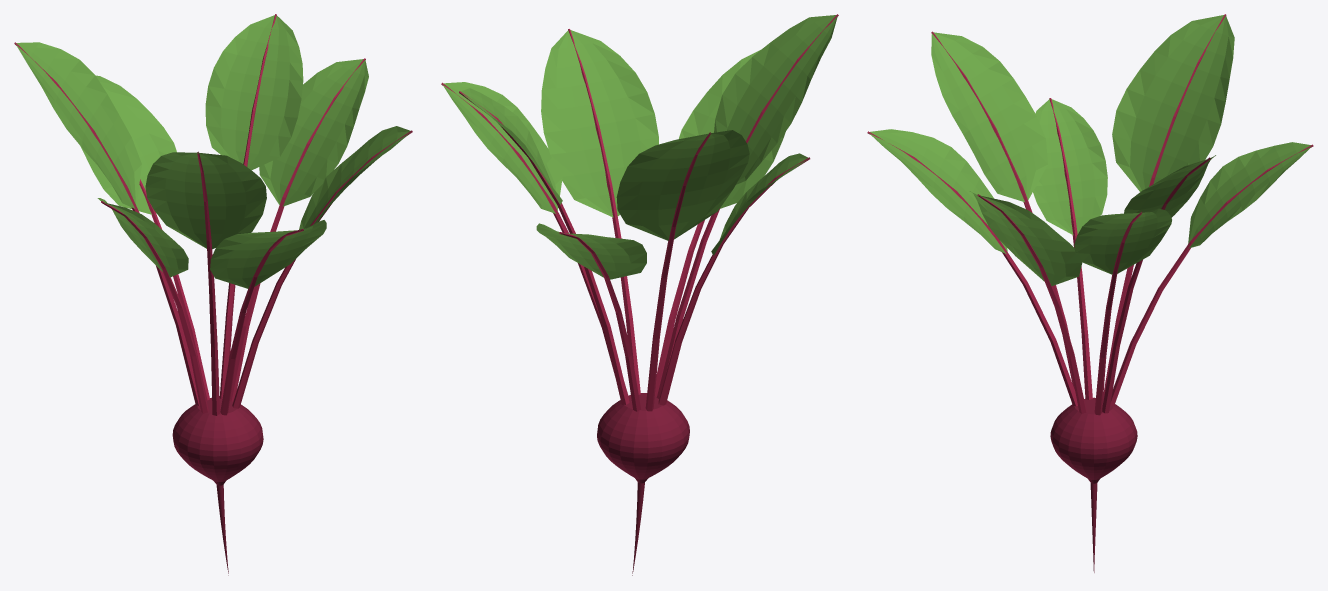
Rendered from beetroot_harvest_v03.glb.
3 renders of one model, left to right at view 1: azimuth 30°, elevation 25°; view 2: azimuth 150°, elevation 25°; view 3: azimuth 270°, elevation 25°, orthographic. The views are drawn at different scales.
Visible parts, largest first — view 1: plant; view 2: plant; view 3: plant.
Boxes of the visible parts, bbox=[...] form: plant: bbox=[14, 14, 412, 575]; plant: bbox=[441, 14, 838, 575]; plant: bbox=[867, 14, 1313, 572].
Bounding box in the file's own units: 0.2615 × 0.4158 × 0.3394.
Materials: 1 (1 with a texture image).
